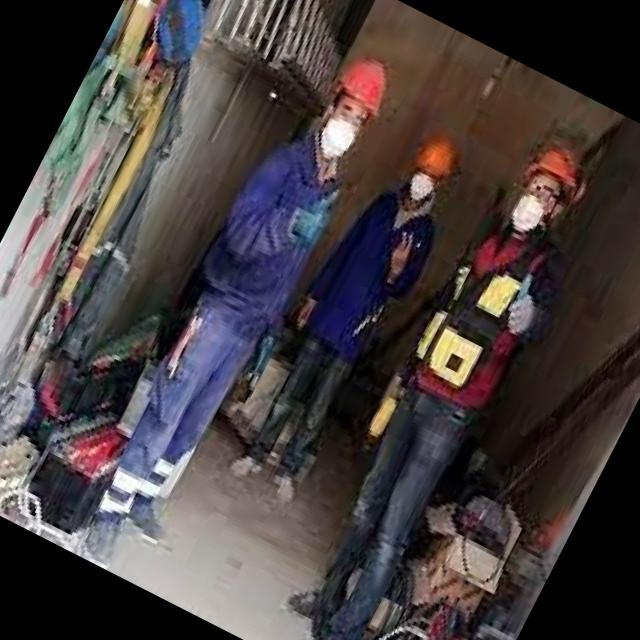hard_hat: (518, 135, 598, 210), (332, 44, 404, 116), (408, 135, 459, 185)
safety_vest: (386, 208, 574, 436)
work_boots: (73, 505, 134, 572), (120, 495, 178, 550), (280, 580, 332, 632), (223, 444, 275, 492), (264, 465, 308, 509)
